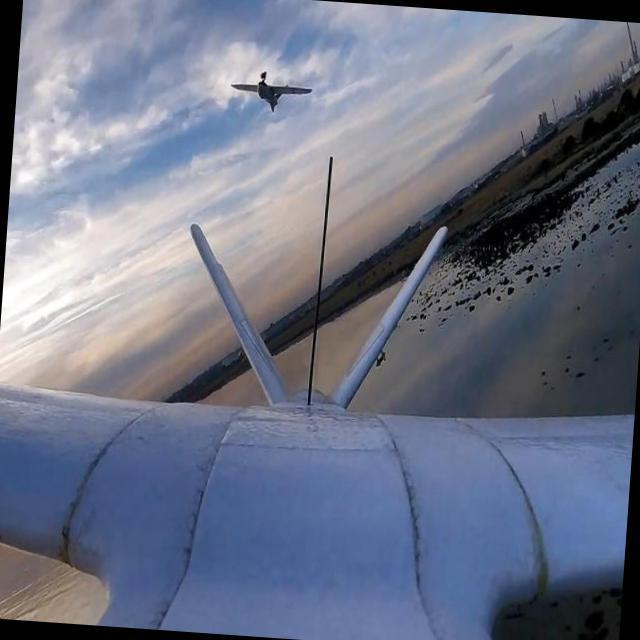iha: (22, 174, 595, 640), (235, 25, 288, 29)
